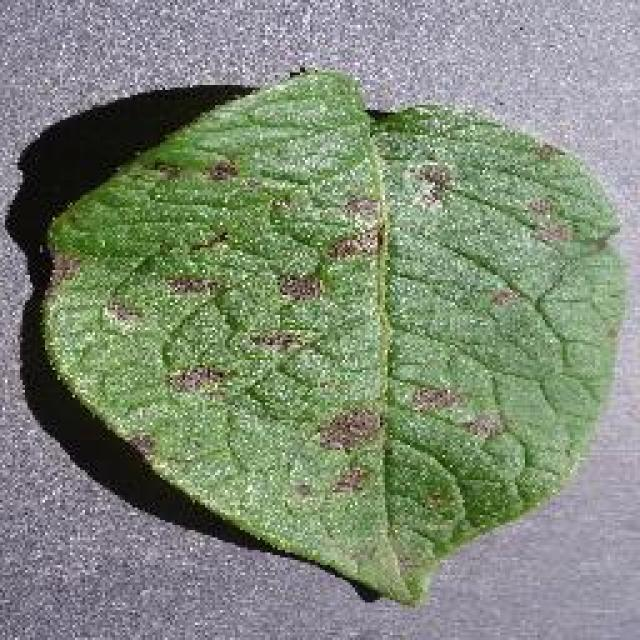Potato___Early_blight: (37, 64, 630, 611)
